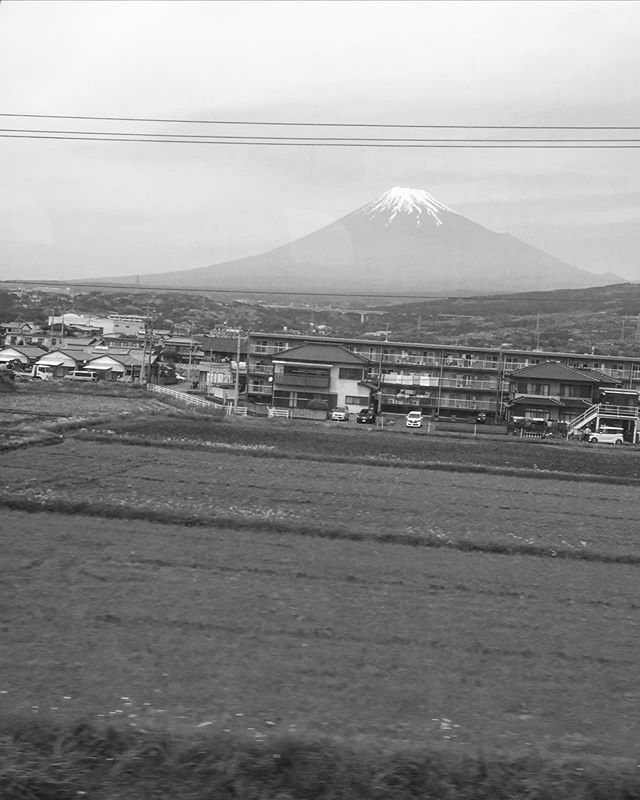building: (249, 333, 640, 433), (10, 320, 151, 371)
mountain: (288, 160, 546, 261)
sky: (1, 1, 622, 259)
